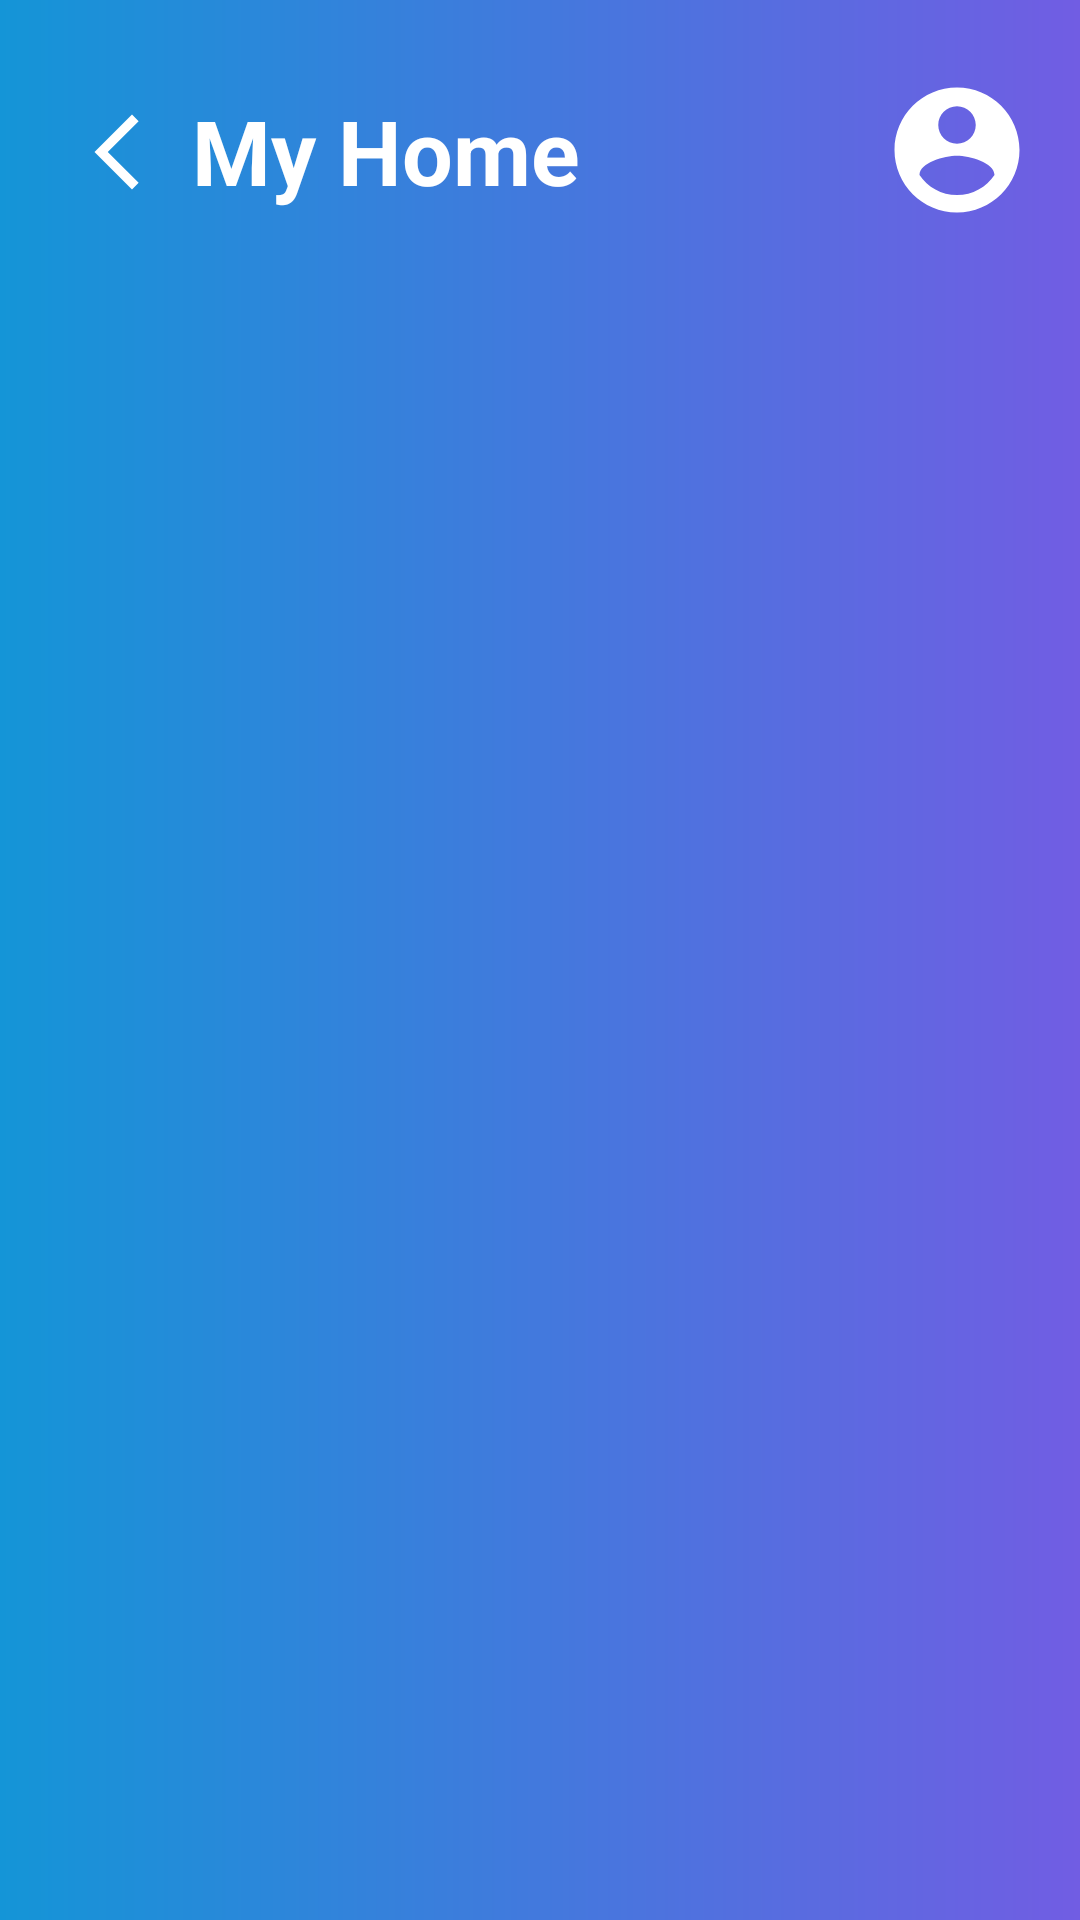

Icon click points for this 1080×1920 phone screenshot, format (x,y):
account circle: (957,150)
arrow back: (116,152)
